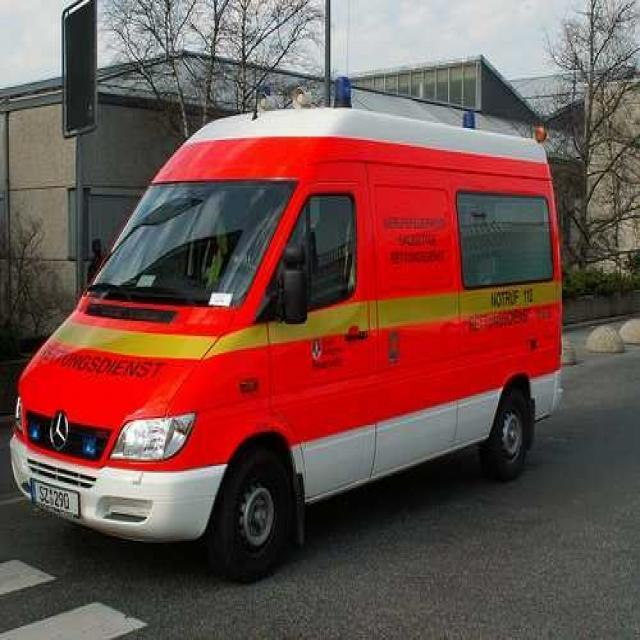emergency-vehicle: (10, 96, 562, 552)
